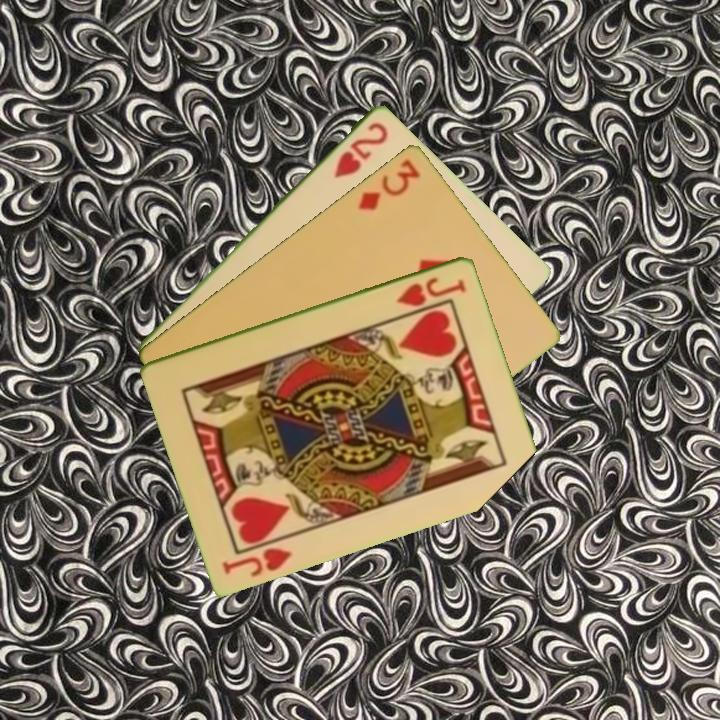2h: (330, 118, 391, 181)
3d: (354, 155, 424, 213)
Jh: (219, 533, 295, 579), (393, 273, 469, 309)
